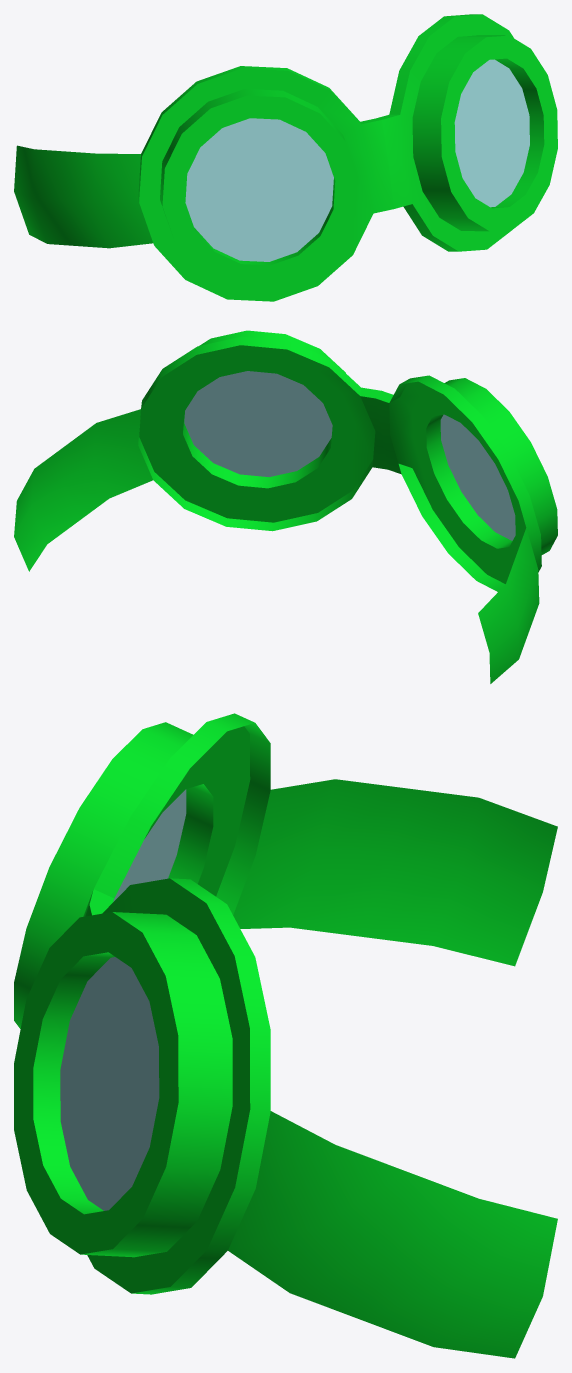
Rendered from goggles.fbx.
The picture shows the model from 3 angles, top to bottom: view 1: azimuth 30°, elevation 25°; view 2: azimuth 150°, elevation 25°; view 3: azimuth 270°, elevation 25°; orthographic projection. The views are drawn at different scales.
Visible parts, largest first — view 1: Goggles; view 2: Goggles; view 3: Goggles.
Boxes of the visible parts, left/top/right/bottom form: Goggles: left=14, top=14, right=557, bottom=301; Goggles: left=14, top=330, right=557, bottom=683; Goggles: left=14, top=713, right=557, bottom=1358.
Size of the model in its own units: 0.6218 by 0.2597 by 0.3457.
